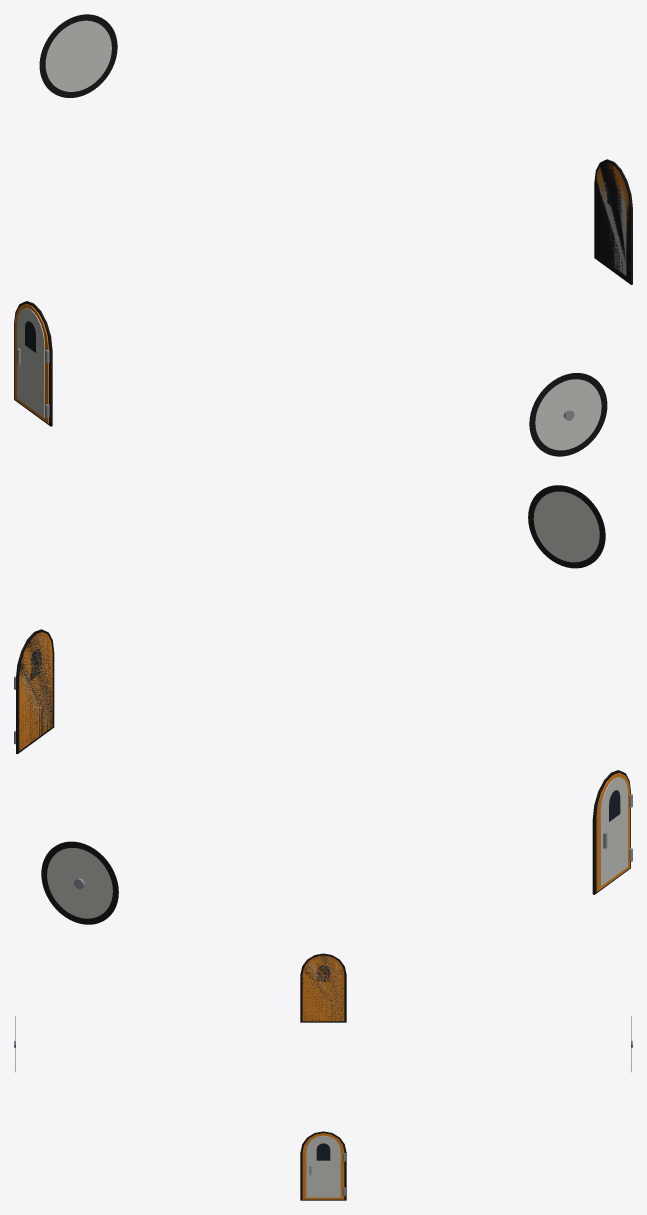
Rendered from bunk500_hatches.obj.
3 views of the same model, one above another, from view 1: azimuth 30°, elevation 25°; view 2: azimuth 150°, elevation 25°; view 3: azimuth 270°, elevation 25° (orthographic). The views are drawn at different scales.
Parts seen in each view (by area): view 1: bunk500_hatches; view 2: bunk500_hatches; view 3: bunk500_hatches.
Boxes of the visible parts, <box> form: bunk500_hatches: <box>14,14,632,456</box>; bunk500_hatches: <box>14,485,632,924</box>; bunk500_hatches: <box>14,953,632,1200</box>.
Bounding box in the file's own units: 12.45 × 2.97 × 18.
